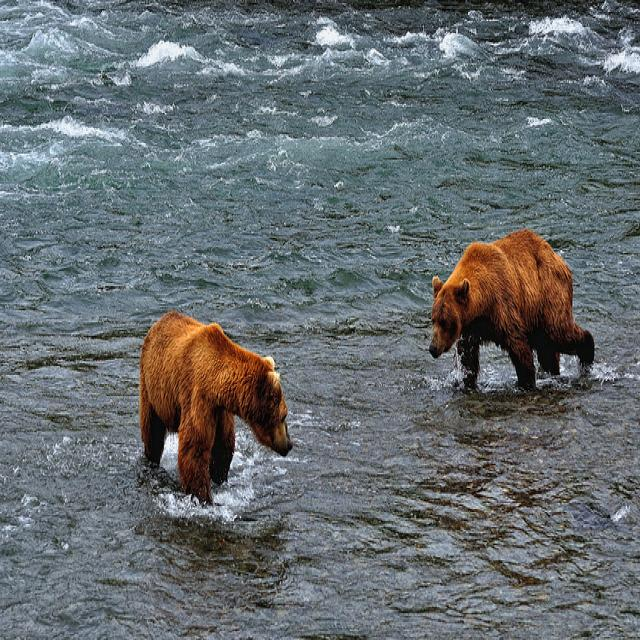Bear: (138, 304, 296, 489), (429, 225, 599, 386)
